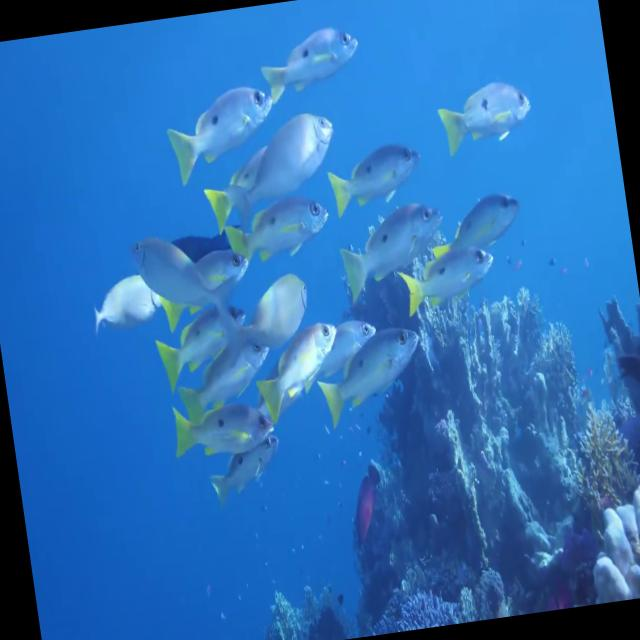fish: (194, 102, 343, 230), (310, 324, 431, 436), (123, 223, 237, 339), (335, 194, 458, 296), (161, 86, 282, 186), (170, 334, 286, 424), (250, 314, 348, 418), (254, 20, 366, 106), (149, 292, 255, 381), (226, 270, 320, 370), (327, 140, 430, 230), (436, 72, 540, 161), (220, 192, 338, 270), (423, 188, 528, 274), (398, 239, 499, 319), (168, 396, 278, 468), (205, 424, 281, 513), (84, 276, 168, 326)
